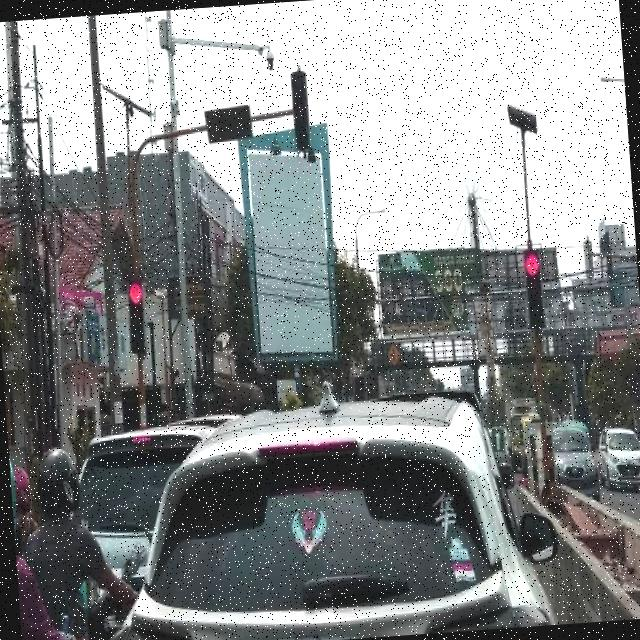Czerwone swiatlo: (126, 277, 150, 357), (524, 252, 546, 328)
